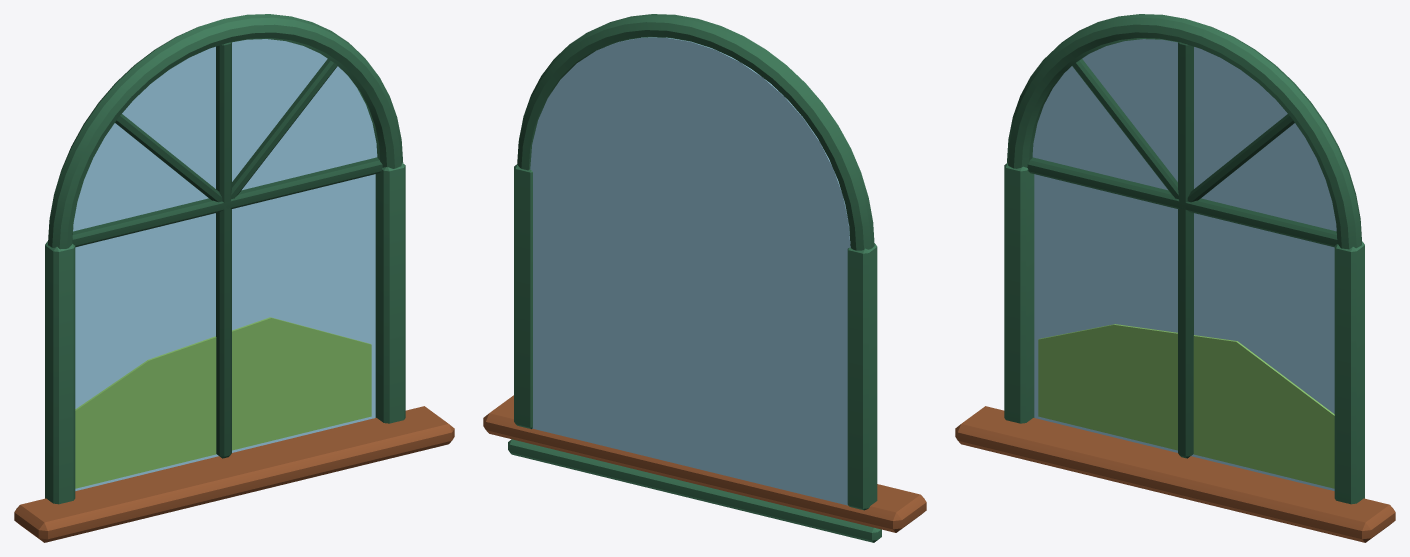
File: janela-arco-classico.glb
The picture shows the model from 3 angles, left to right: view 1: azimuth 30°, elevation 25°; view 2: azimuth 150°, elevation 25°; view 3: azimuth 330°, elevation 25°; orthographic projection.
Visible parts, largest first — view 1: placa, moldura, placa.001; view 2: placa, moldura; view 3: placa, moldura, placa.001.
Part boxes in pixels (bbox=[...]): placa: bbox=[73, 39, 377, 490]; moldura: bbox=[14, 14, 454, 542]; placa.001: bbox=[75, 317, 371, 488]; placa: bbox=[530, 37, 850, 505]; moldura: bbox=[483, 14, 926, 542]; placa: bbox=[1032, 39, 1336, 490]; moldura: bbox=[955, 14, 1395, 542]; placa.001: bbox=[1038, 324, 1334, 488].
Size of the model in its own units: 1.7 by 1.85 by 0.22.
